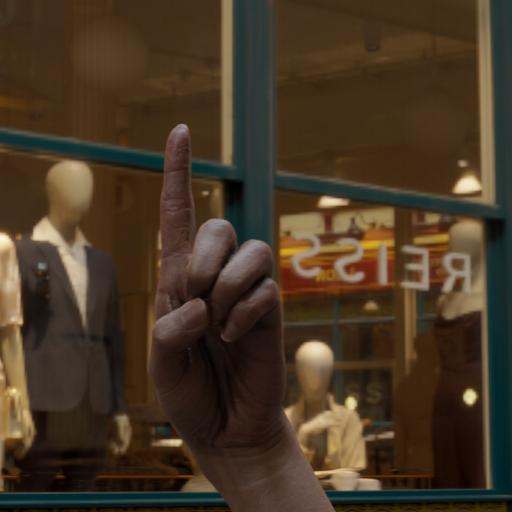D: (141, 122, 289, 444)
